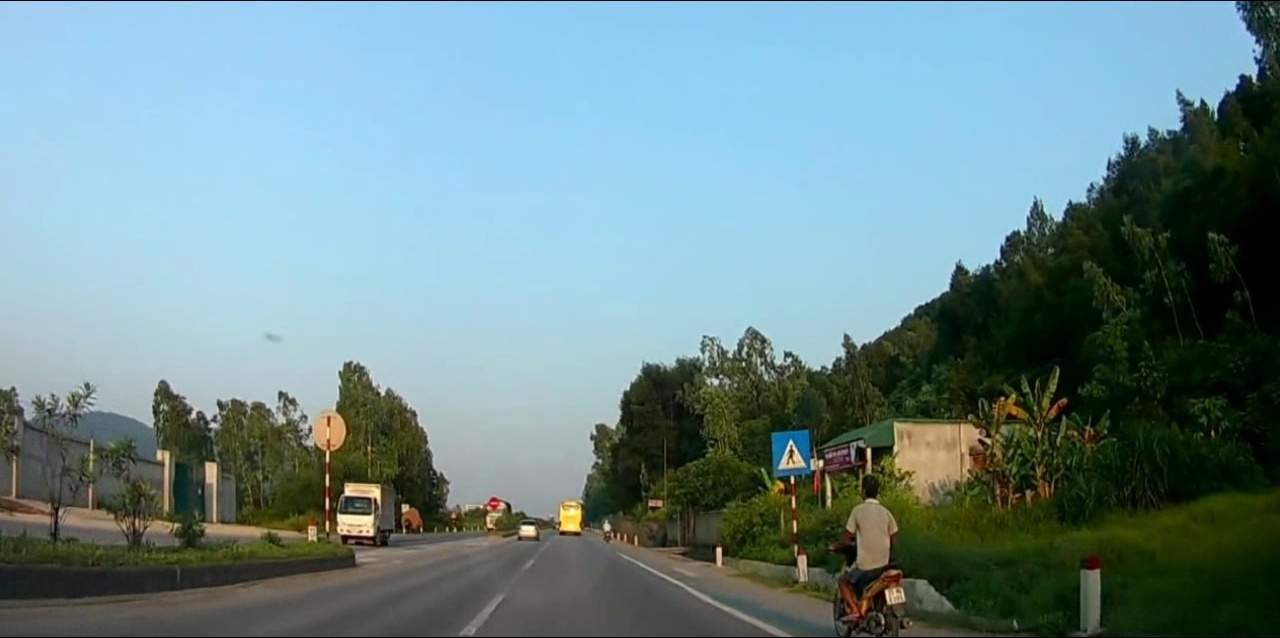Cam di nguoc chieu: (487, 497, 499, 509)
Nguoi di bo: (769, 427, 813, 474)
